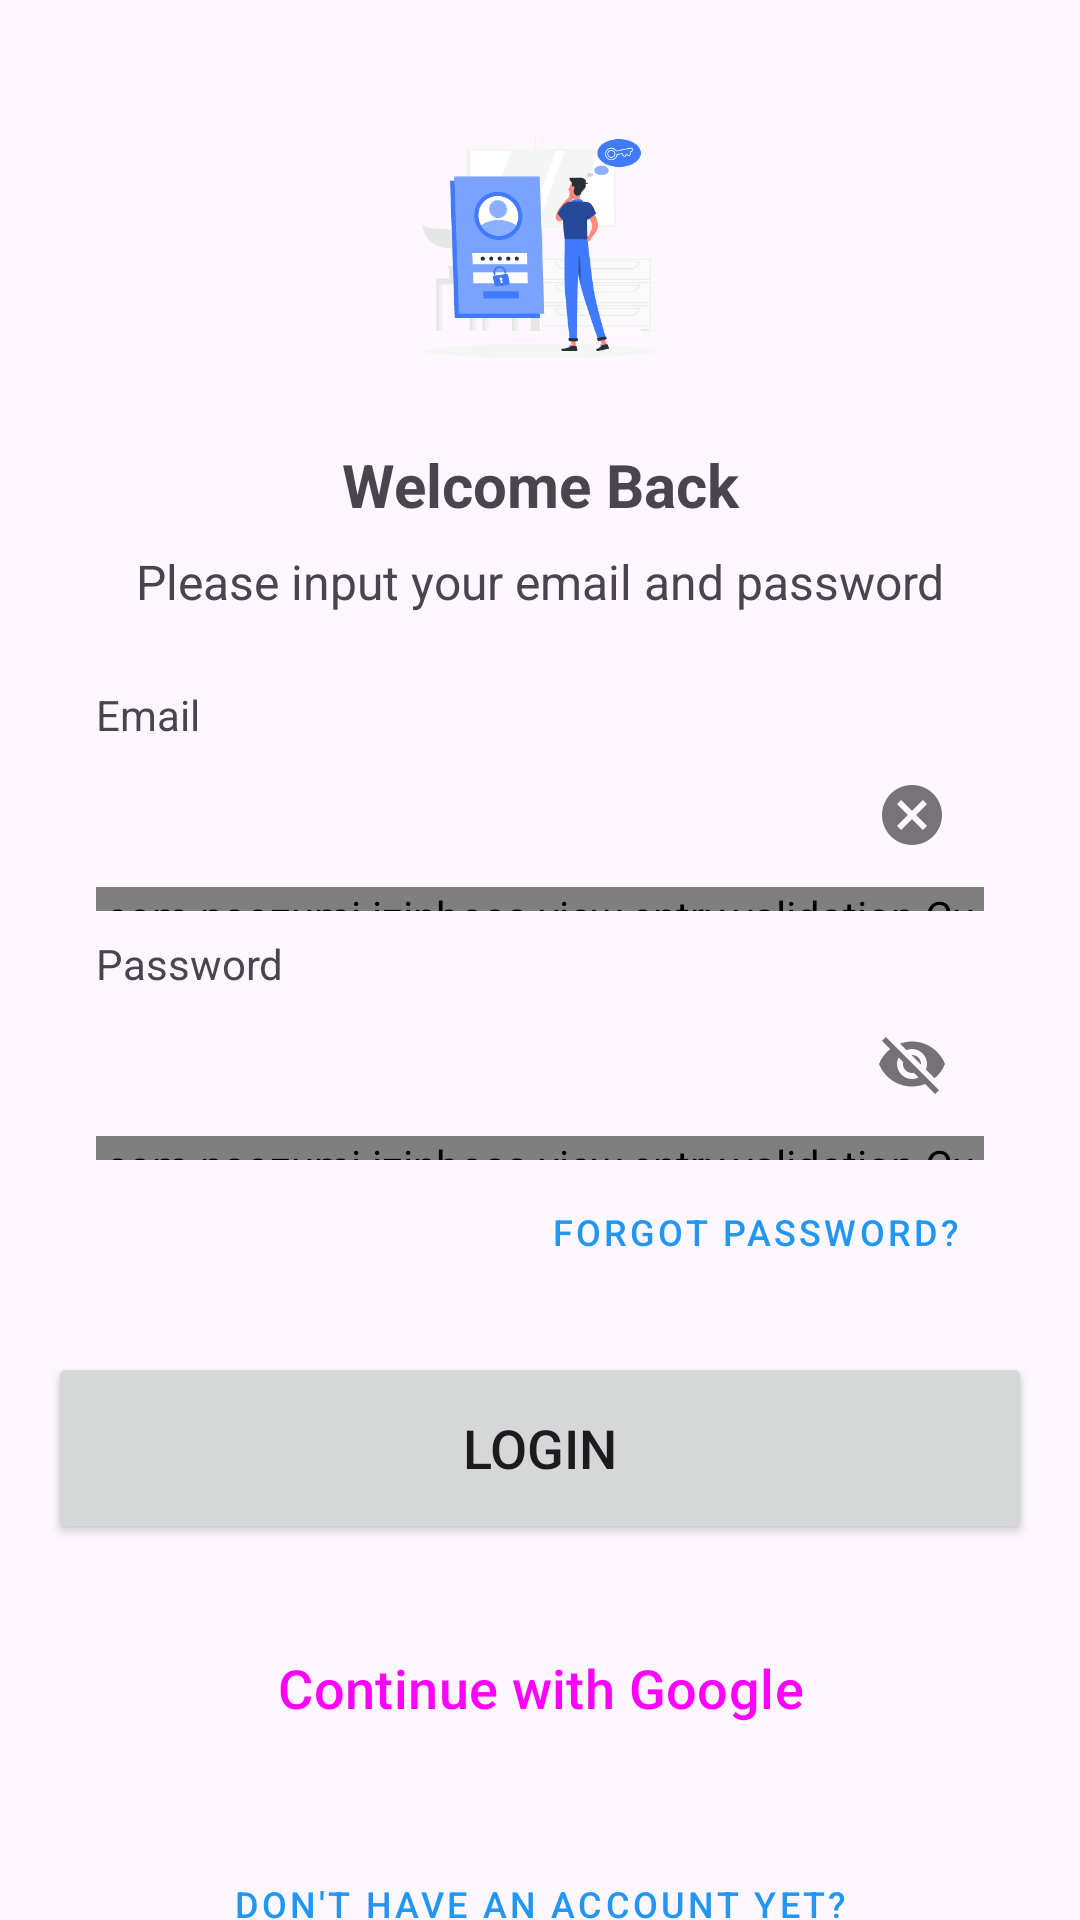

Where icons sit on this 1080 x 1920 app screen, as bbox(x1, y1, x2, y2):
login: bbox(423, 139, 641, 351)
